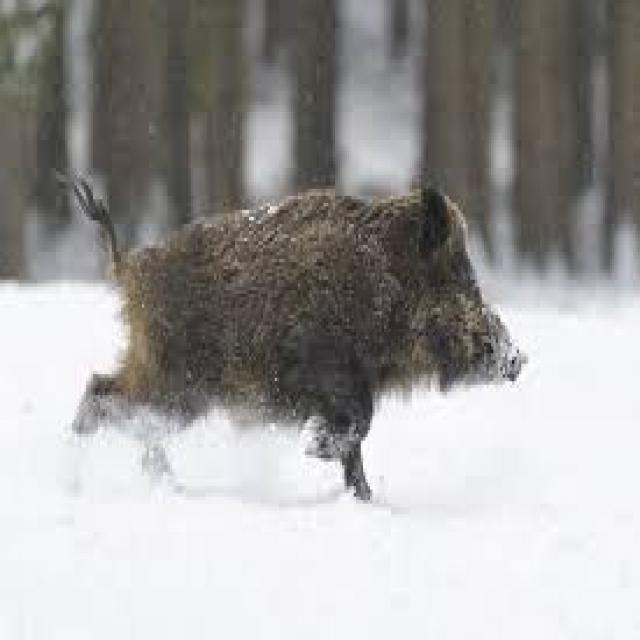boar: (35, 123, 537, 543)
